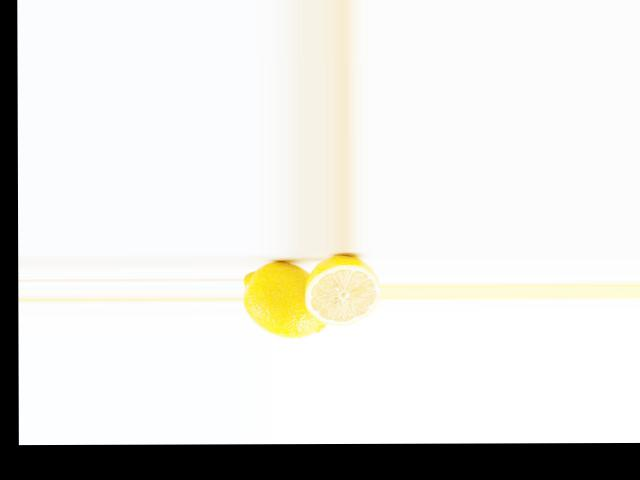lemon: (245, 256, 328, 340)
